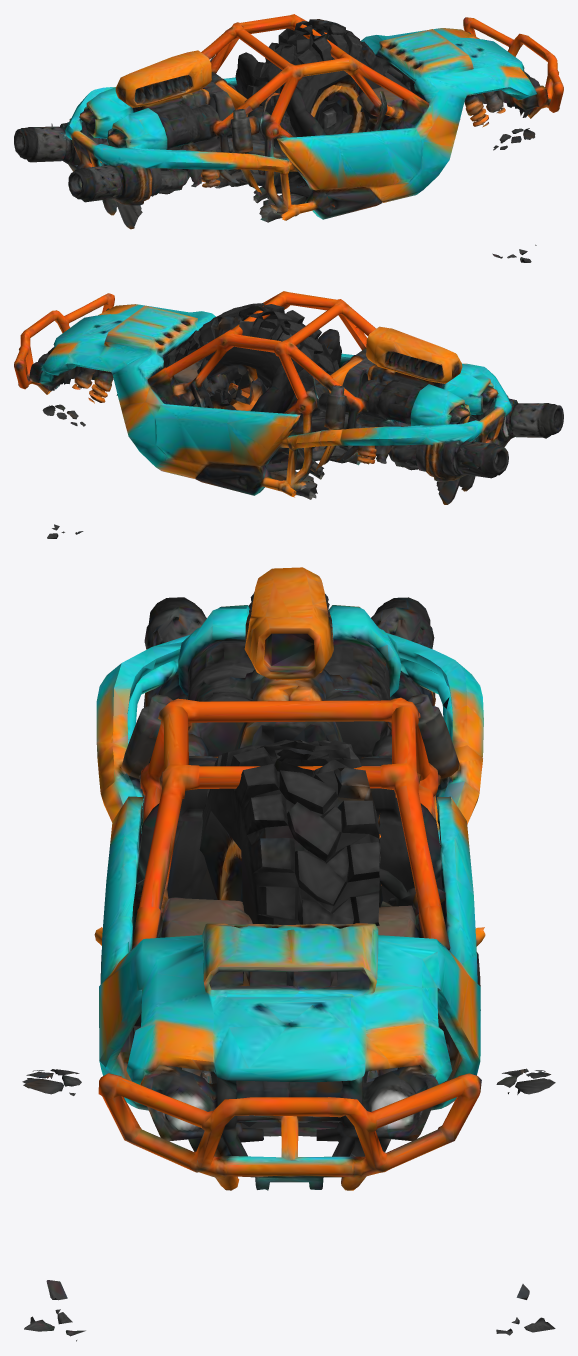
File: faisca-CW2riZTY.glb
The picture shows the model from 3 angles, top to bottom: view 1: azimuth 30°, elevation 25°; view 2: azimuth 150°, elevation 25°; view 3: azimuth 270°, elevation 25°; orthographic projection. The views are drawn at different scales.
Visible parts, largest first — view 1: carroceria, roda; view 2: carroceria, roda; view 3: carroceria, roda.
Part boxes in pixels (<box>): carroceria: <box>14,14,563,262</box>; roda: <box>245,19,387,186</box>; carroceria: <box>14,291,563,538</box>; roda: <box>175,303,339,463</box>; carroceria: <box>22,567,555,1341</box>; roda: <box>199,739,382,925</box>.
Size of the model in its own units: 4.1 by 1.78 by 1.91.
Materials: 2 (2 with a texture image).
